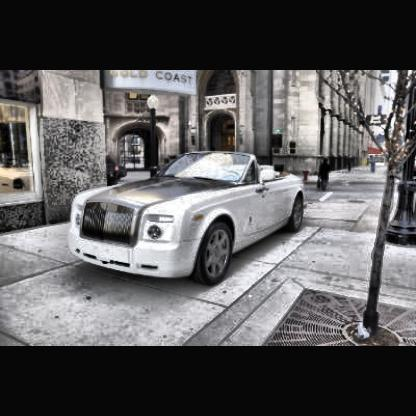Rolls-Royce Phantom Drophead Coupe Convertible 2012: (71, 149, 307, 287)
